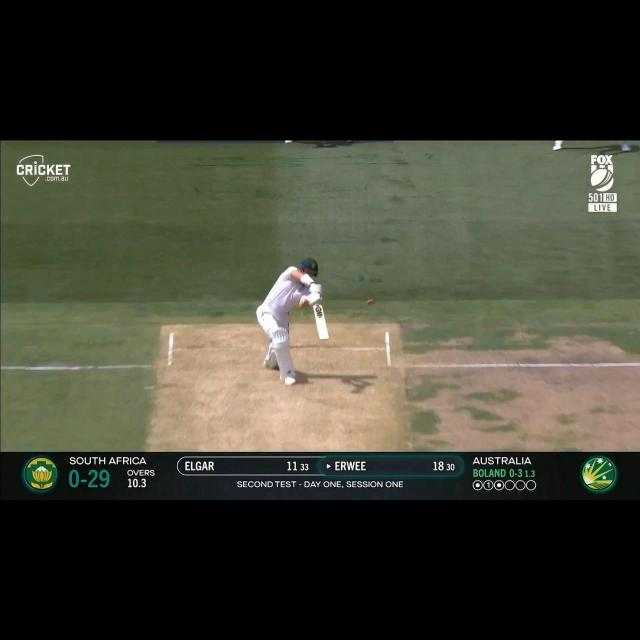bat: (312, 304, 331, 343)
toe: (319, 333, 330, 343)
